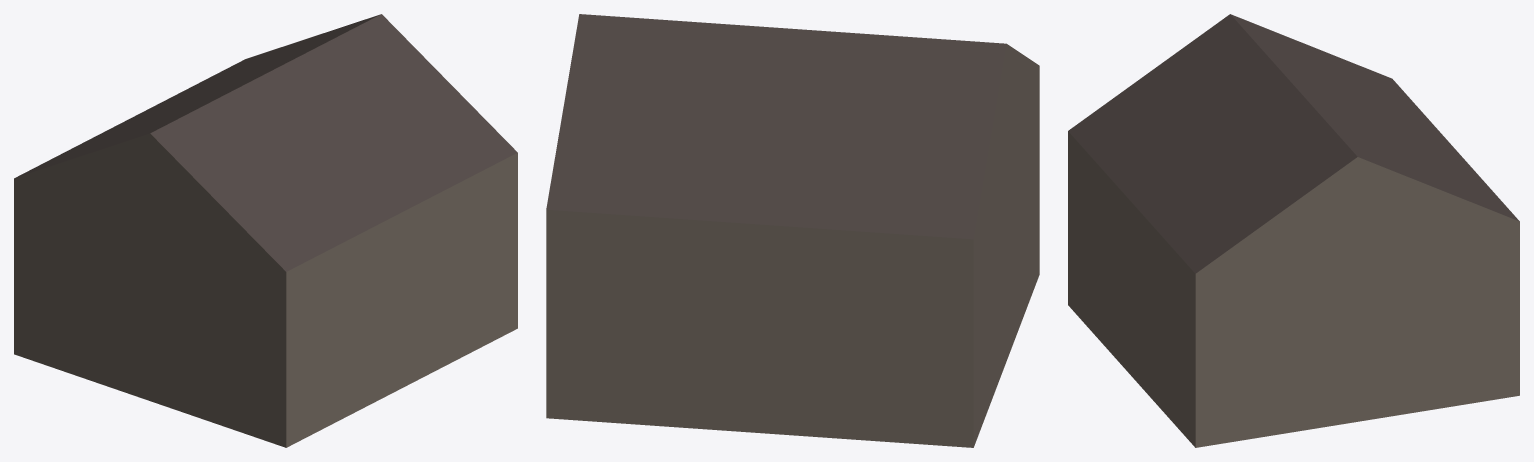
3 views of the same model, side by side, from view 1: azimuth 30°, elevation 25°; view 2: azimuth 150°, elevation 25°; view 3: azimuth 270°, elevation 25° (orthographic). The views are drawn at different scales.
Visible parts, largest first — view 1: HP-w859082457; view 2: HP-w859082457; view 3: HP-w859082457.
Boxes of the visible parts, box(x1,y1,x2,y2) form: HP-w859082457: box(14, 14, 517, 447); HP-w859082457: box(546, 14, 1039, 447); HP-w859082457: box(1068, 14, 1519, 447).
Size of the model in its own units: 21.64 by 13.7 by 21.18.
